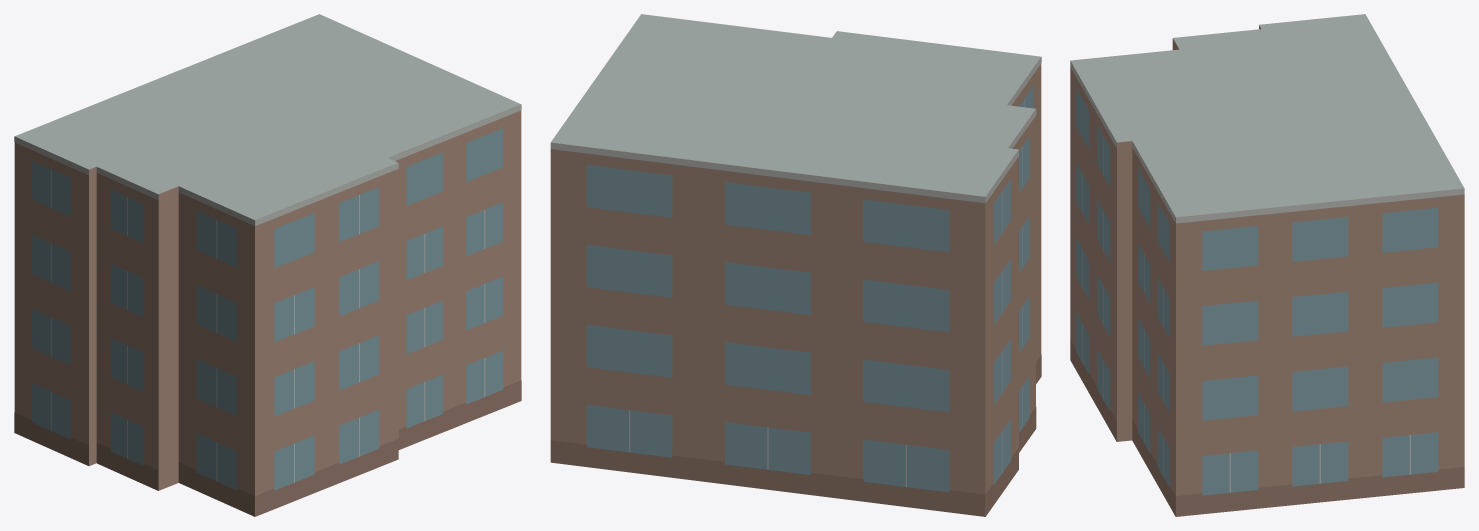
The model's file is survey-upis-32818966.glb.
3 views of the same model, side by side, from view 1: azimuth 30°, elevation 25°; view 2: azimuth 150°, elevation 25°; view 3: azimuth 270°, elevation 25° (orthographic). The views are drawn at different scales.
Parts seen in each view (by area): view 1: survey-upis-32818966.tmp; view 2: survey-upis-32818966.tmp; view 3: survey-upis-32818966.tmp.
Boxes of the visible parts, bbox=[...] form: survey-upis-32818966.tmp: bbox=[14, 14, 521, 516]; survey-upis-32818966.tmp: bbox=[550, 14, 1041, 516]; survey-upis-32818966.tmp: bbox=[1070, 14, 1464, 516].
Size of the model in its own units: 17.5 by 12 by 14.33.
